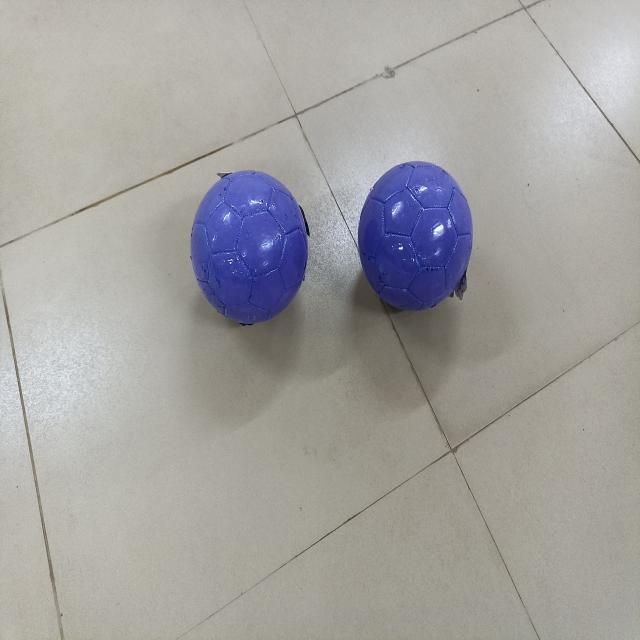purple_ball: (348, 157, 488, 319), (190, 152, 309, 335)
